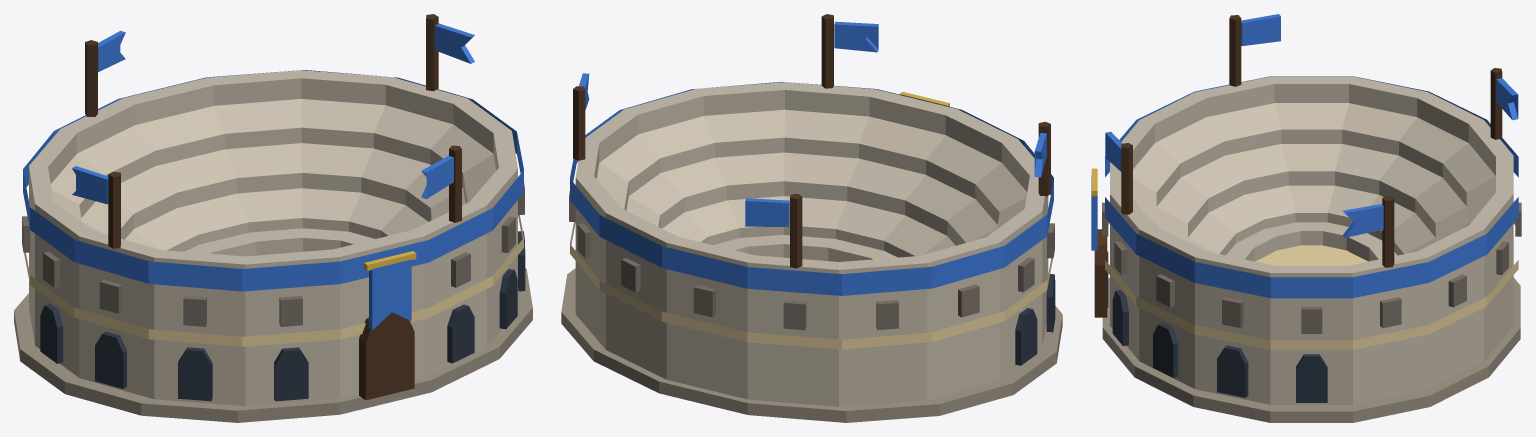
File: bld_amphitheater.glb
3 renders of one model, left to right at view 1: azimuth 30°, elevation 25°; view 2: azimuth 150°, elevation 25°; view 3: azimuth 270°, elevation 25°, orthographic. The views are drawn at different scales.
Visible parts, largest first — view 1: bld_amphitheater; view 2: bld_amphitheater; view 3: bld_amphitheater.
Boxes of the visible parts, x1,y1,x2,y2 form: bld_amphitheater: (14, 14, 532, 422); bld_amphitheater: (561, 14, 1062, 422); bld_amphitheater: (1091, 14, 1521, 422).
Bounding box in the file's own units: 0.4708 × 0.22 × 0.408.
